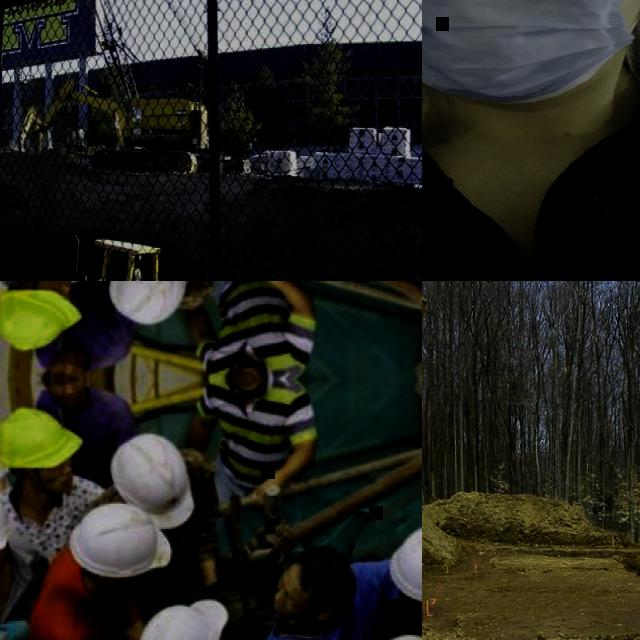Hardhat: (0, 403, 105, 555), (103, 431, 194, 535), (0, 485, 59, 637), (69, 504, 174, 578), (0, 404, 83, 476), (133, 586, 234, 640), (0, 289, 83, 351), (379, 499, 422, 610), (109, 281, 191, 323), (0, 487, 13, 557)
Mask: (422, 0, 622, 96)
NO-Hardhat: (297, 546, 356, 602), (38, 368, 86, 388)
NO-Mask: (270, 597, 293, 623), (45, 281, 75, 285)
NO-Safety Vest: (422, 89, 640, 281), (36, 281, 127, 361), (217, 392, 296, 484), (29, 583, 136, 640), (44, 395, 120, 475), (11, 491, 85, 562), (221, 281, 288, 356), (272, 598, 373, 640), (164, 479, 207, 572), (0, 561, 41, 633), (372, 581, 422, 640)
Person: (422, 0, 640, 281), (91, 428, 218, 606), (218, 534, 407, 640), (29, 502, 174, 640), (186, 385, 318, 507), (190, 281, 318, 384), (37, 355, 134, 480), (30, 281, 133, 366), (357, 522, 422, 640), (0, 281, 93, 346), (134, 584, 232, 640)
vehicle: (16, 75, 204, 174), (0, 236, 162, 281)
